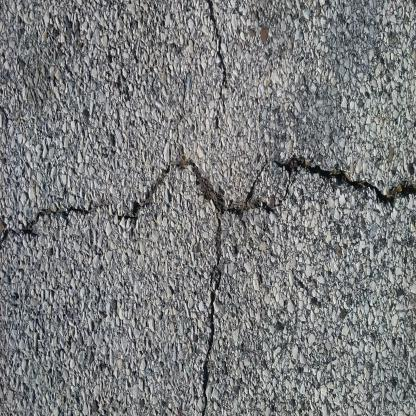Cracks: (0, 145, 416, 248), (198, 192, 231, 416), (201, 0, 233, 137)
